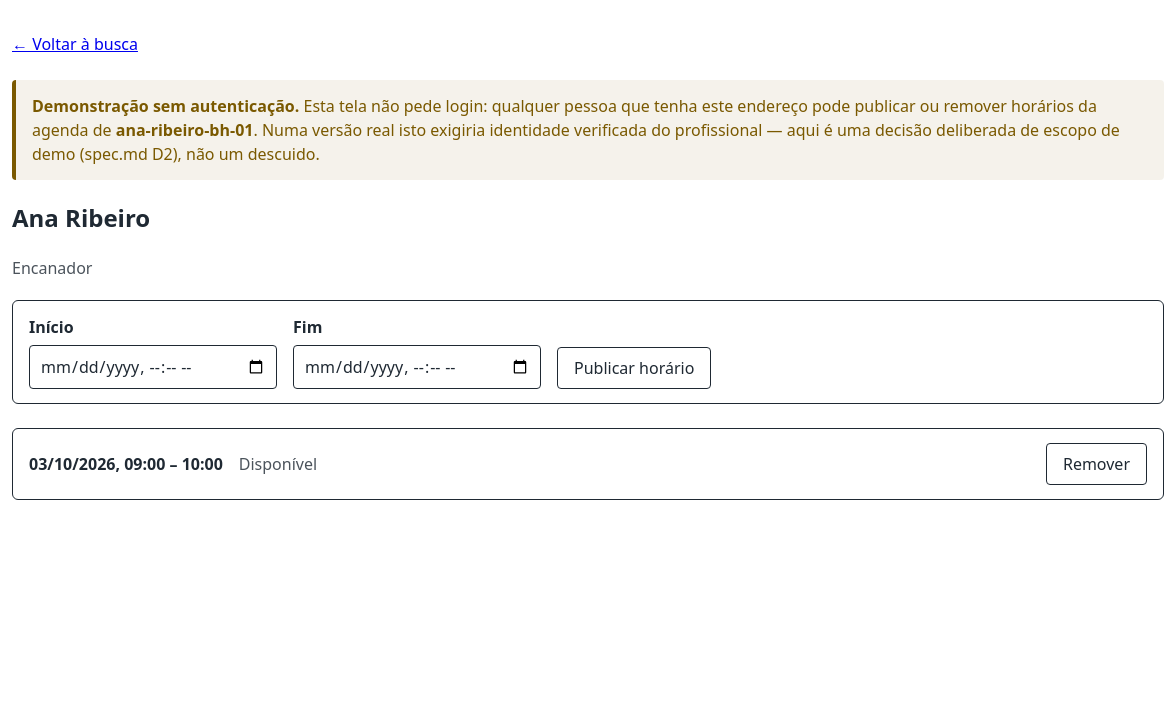
Test: ProfessionalAgenda › feliz: remove um horário e ele some da lista
This screenshot has width=1164, height=720.
Click the button "Remover".
click(1096, 464)  # box [1046,443,1147,485]
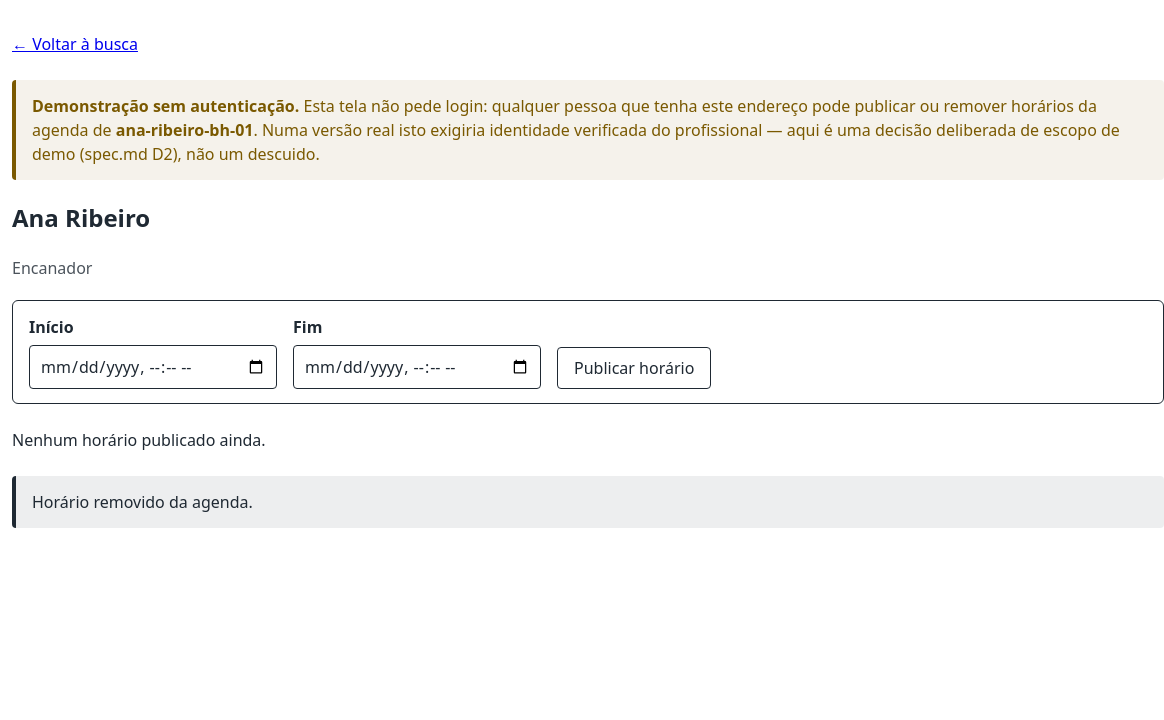
Check: the text "Horário removido da agenda." is shown, box [12,476,1163,528]
Check: the list item "03/10/2026, 09:00 – 10:00 Disponível Remover" is gone
